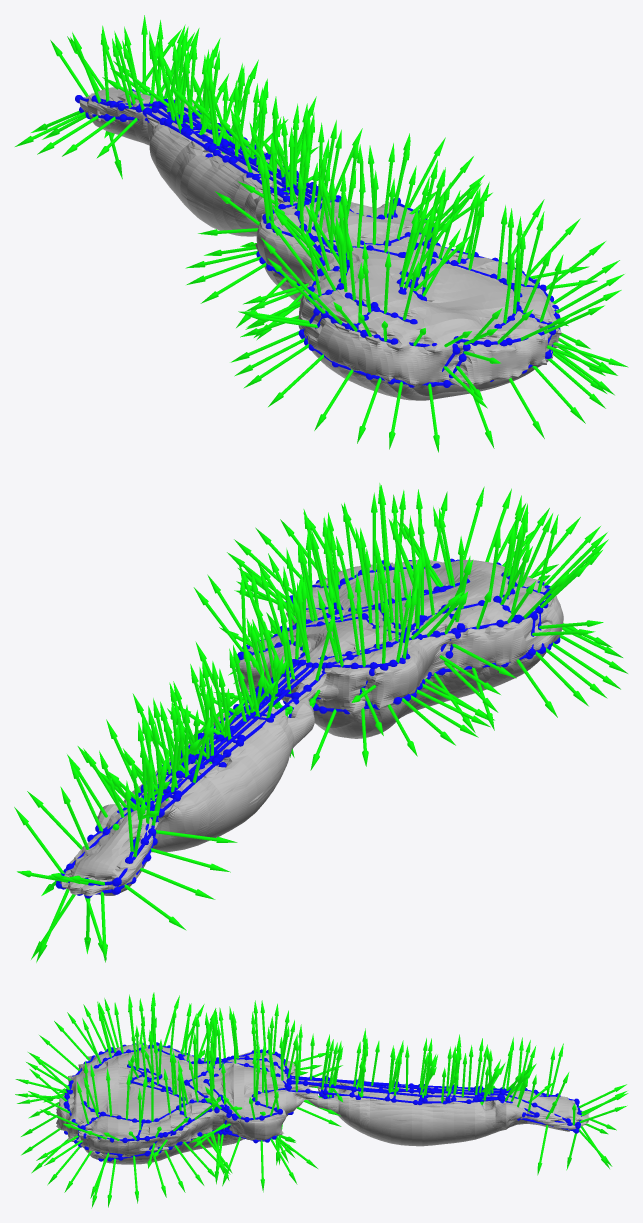
The model's file is author2_guitar.gltf.
3 views of the same model, one above another, from view 1: azimuth 30°, elevation 25°; view 2: azimuth 150°, elevation 25°; view 3: azimuth 270°, elevation 25° (orthographic). The views are drawn at different scales.
Size of the model in its own units: 0.5068 by 0.2879 by 1.11.
